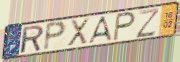A: (87, 15, 114, 45)
P: (42, 20, 68, 52), (112, 11, 137, 42)
R: (20, 23, 45, 55)
X: (66, 17, 91, 48)
Z: (135, 7, 162, 40)
